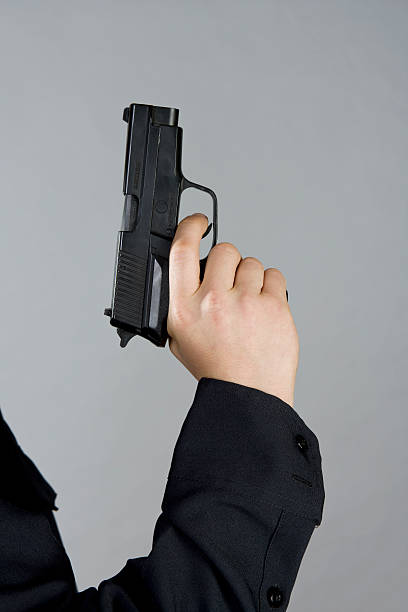pistol: (103, 97, 219, 349)
